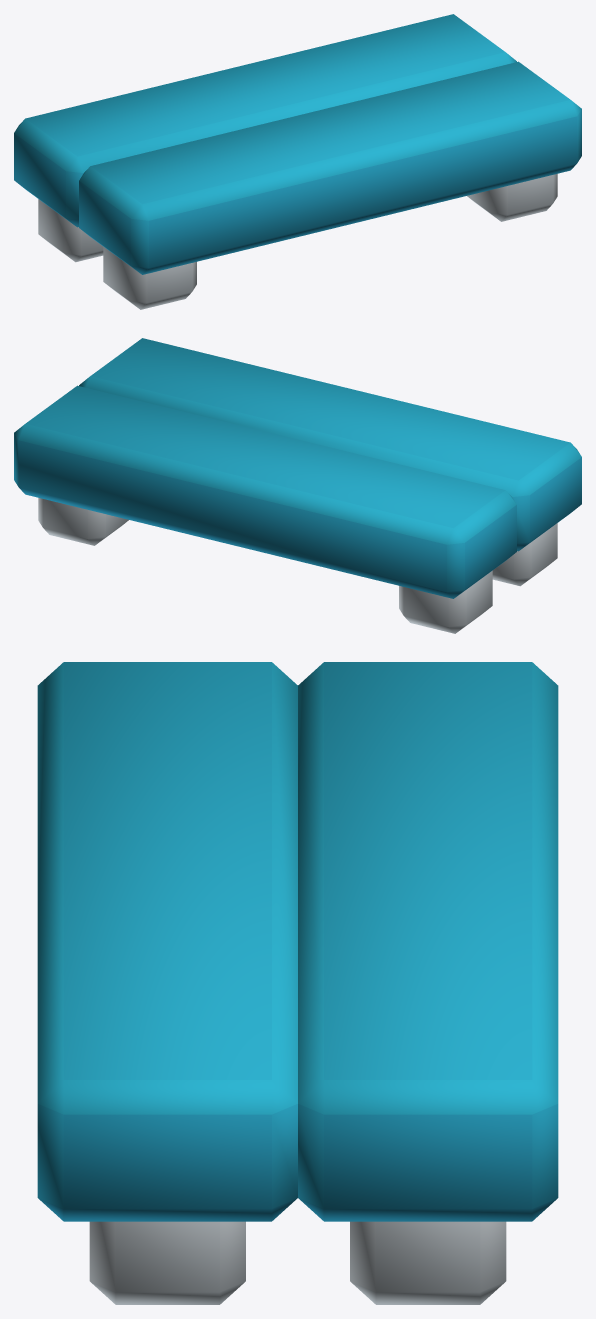
File: bench_B.fbx
The picture shows the model from 3 angles, top to bottom: view 1: azimuth 30°, elevation 25°; view 2: azimuth 150°, elevation 25°; view 3: azimuth 270°, elevation 25°; orthographic projection. The views are drawn at different scales.
Parts seen in each view (by area): view 1: bench_B; view 2: bench_B; view 3: bench_B.
Boxes of the visible parts, bbox=[...] form: bench_B: bbox=[14, 14, 581, 309]; bench_B: bbox=[14, 338, 581, 633]; bench_B: bbox=[37, 662, 558, 1304].
Bounding box in the file's own units: 2 × 0.5 × 1.
